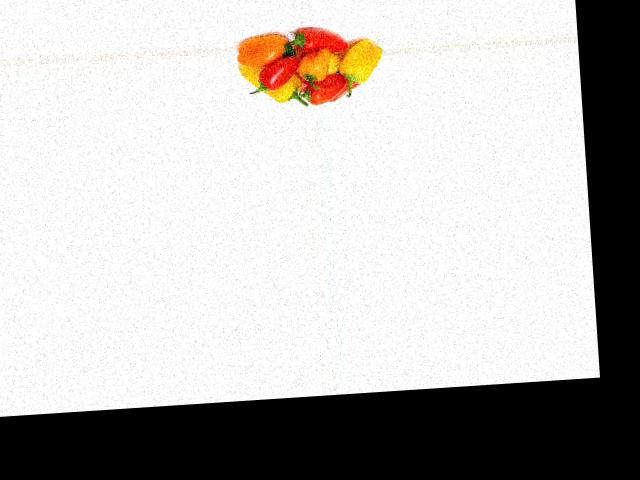bell_pepper: (239, 61, 302, 109)
